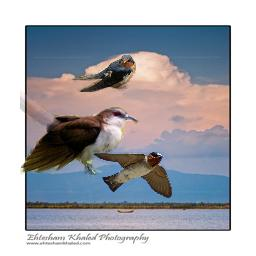Cuckoo: (20, 62, 139, 178)
Swallow: (92, 152, 173, 198), (67, 54, 136, 92)
